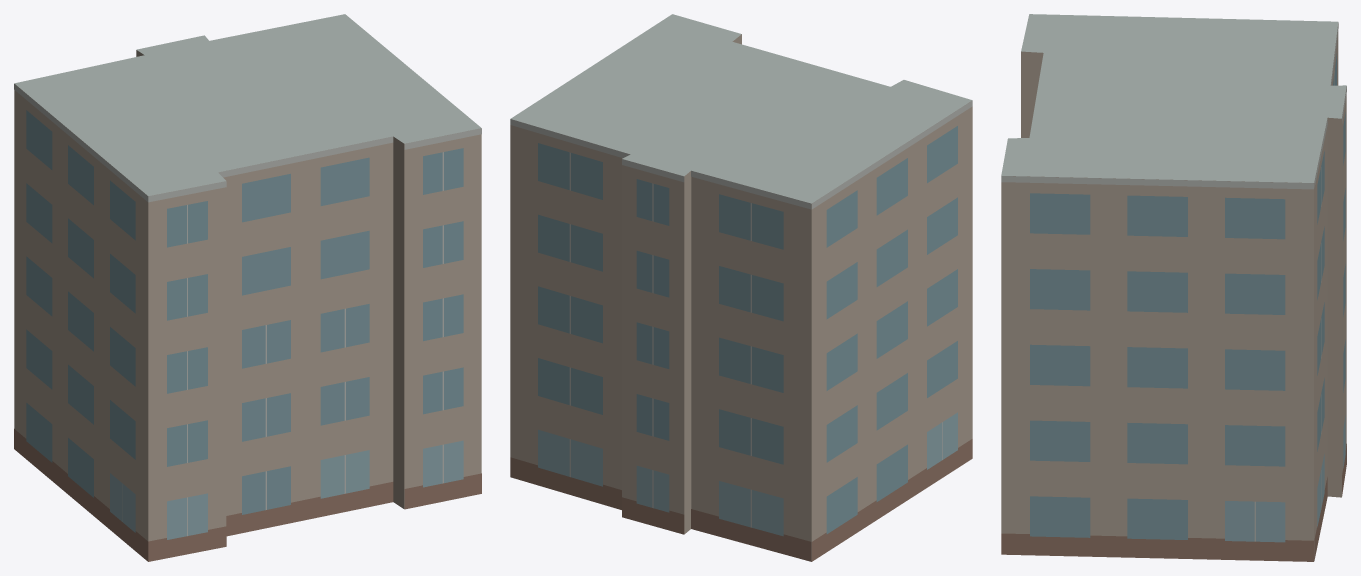
Rendered from survey-upis-32754757.glb.
3 renders of one model, left to right at view 1: azimuth 30°, elevation 25°; view 2: azimuth 150°, elevation 25°; view 3: azimuth 270°, elevation 25°, orthographic. The views are drawn at different scales.
Parts seen in each view (by area): view 1: survey-upis-32754757.tmp; view 2: survey-upis-32754757.tmp; view 3: survey-upis-32754757.tmp.
Boxes of the visible parts, x1,y1,x2,y2 form: survey-upis-32754757.tmp: (14, 14, 481, 561); survey-upis-32754757.tmp: (510, 14, 972, 561); survey-upis-32754757.tmp: (1001, 14, 1346, 561).
Bounding box in the file's own units: 13.89 × 14.5 × 12.
